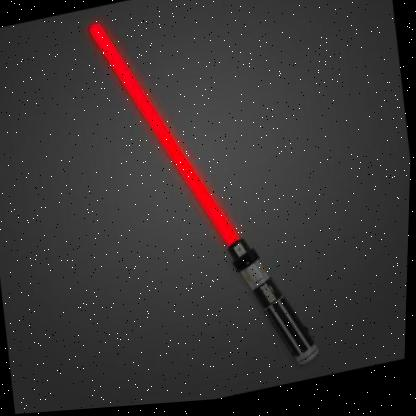sith_lightsaber: (73, 0, 335, 410)
